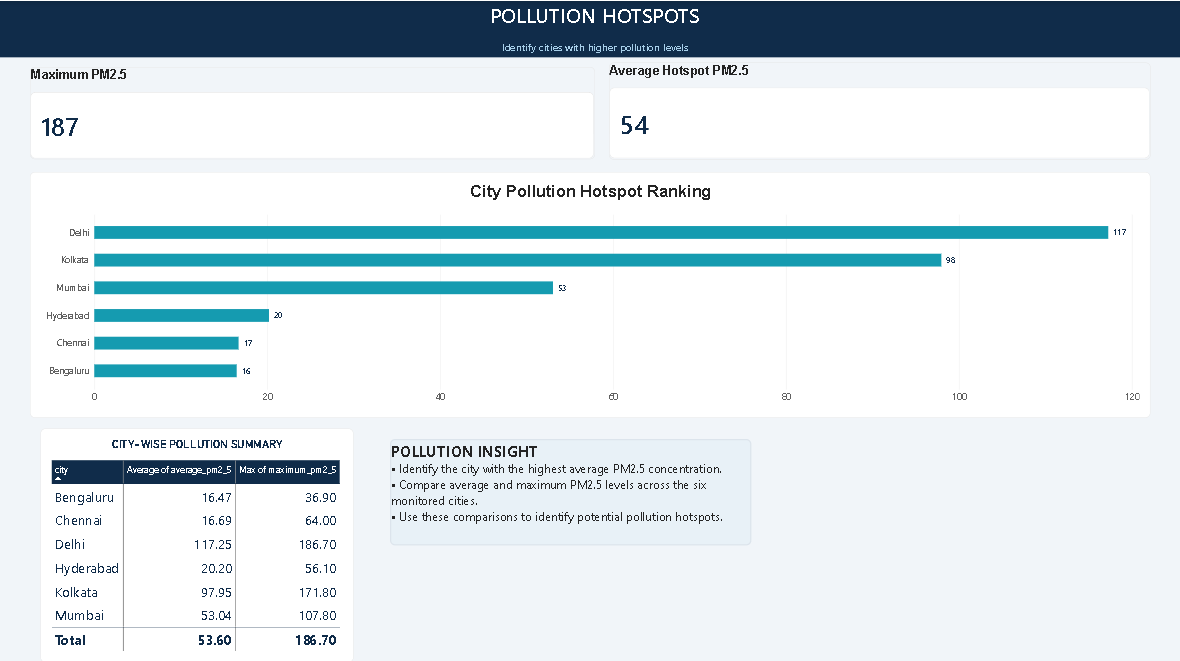

The dashboard page shown, as its layout file describes it:
{"tool":"powerbi","page":{"name":"Pollution Hotspots","canvas":[1920,1080],"ordinal":1},"visuals":[{"type":"shape","box":[0,0,1920,90],"z":0},{"type":"textbox","box":[0,0,1920,155],"z":1000},{"type":"clusteredBarChart","title":"City Pollution Hotspot Ranking","fields":{"Category":["gold_pollution_hotspots.city"],"Y":["Avg(gold_pollution_hotspots.average_pm2_5)"]},"box":[57.5,272.5,1790,392.5],"z":2000},{"type":"cardVisual","title":"Maximum PM2.5","fields":{"Data":["gold_city_daily.Hotspot Maximum PM2.5"]},"box":[57.5,105,902.5,147.5],"z":3000},{"type":"cardVisual","title":"Average Hotspot PM2.5","fields":{"Data":["gold_city_daily.Hotspot Average PM2.5"]},"box":[982.5,97.5,865,155],"z":4000},{"type":"tableEx","title":"CITY-WISE POLLUTION SUMMARY","fields":{"Values":["gold_pollution_hotspots.city","Avg(gold_pollution_hotspots.average_pm2_5)","Max(gold_pollution_hotspots.maximum_pm2_5)"]},"box":[74.3,683,500,375],"z":5000},{"type":"textbox","box":[632.7,699.8,577.6,170.2],"z":5001}]}

Visuals, with their boxes in screenshot pixels (x1, y1, x2, y2), scaled from the page's 1920x1080 canvas onto the 1180x661 screenshot:
shape: Rect(0, 0, 1179, 55)
textbox: Rect(0, 0, 1179, 95)
"City Pollution Hotspot Ranking" clusteredBarChart: Rect(35, 167, 1135, 407)
"Maximum PM2.5" cardVisual: Rect(35, 64, 590, 155)
"Average Hotspot PM2.5" cardVisual: Rect(604, 60, 1135, 155)
"CITY-WISE POLLUTION SUMMARY" tableEx: Rect(46, 418, 353, 648)
textbox: Rect(389, 428, 744, 532)
